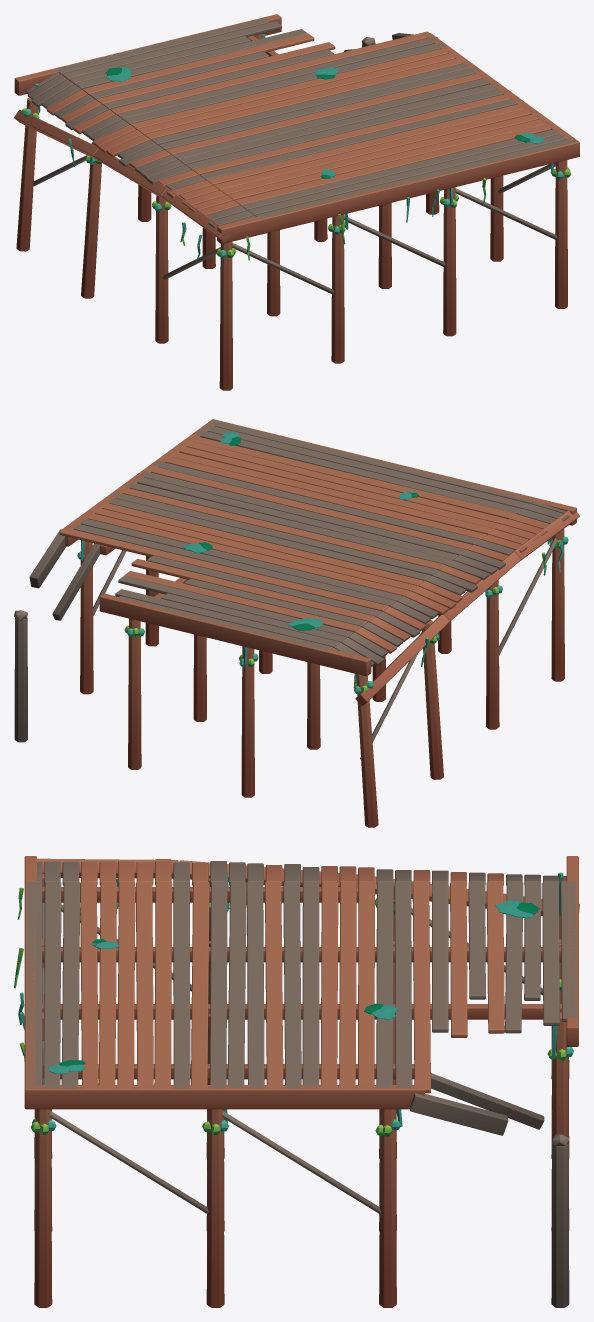
The model's file is stilt_platform_broken.glb.
3 views of the same model, one above another, from view 1: azimuth 30°, elevation 25°; view 2: azimuth 150°, elevation 25°; view 3: azimuth 270°, elevation 25° (orthographic). The views are drawn at different scales.
Parts seen in each view (by area): view 1: stilt_platform_broken; view 2: stilt_platform_broken; view 3: stilt_platform_broken.
Boxes of the visible parts, bbox=[...] form: stilt_platform_broken: bbox=[14, 14, 579, 390]; stilt_platform_broken: bbox=[14, 419, 579, 827]; stilt_platform_broken: bbox=[14, 856, 579, 1307].
Bounding box in the file's own units: 9.24 × 4.02 × 9.19.
1 material, 1 textured.
